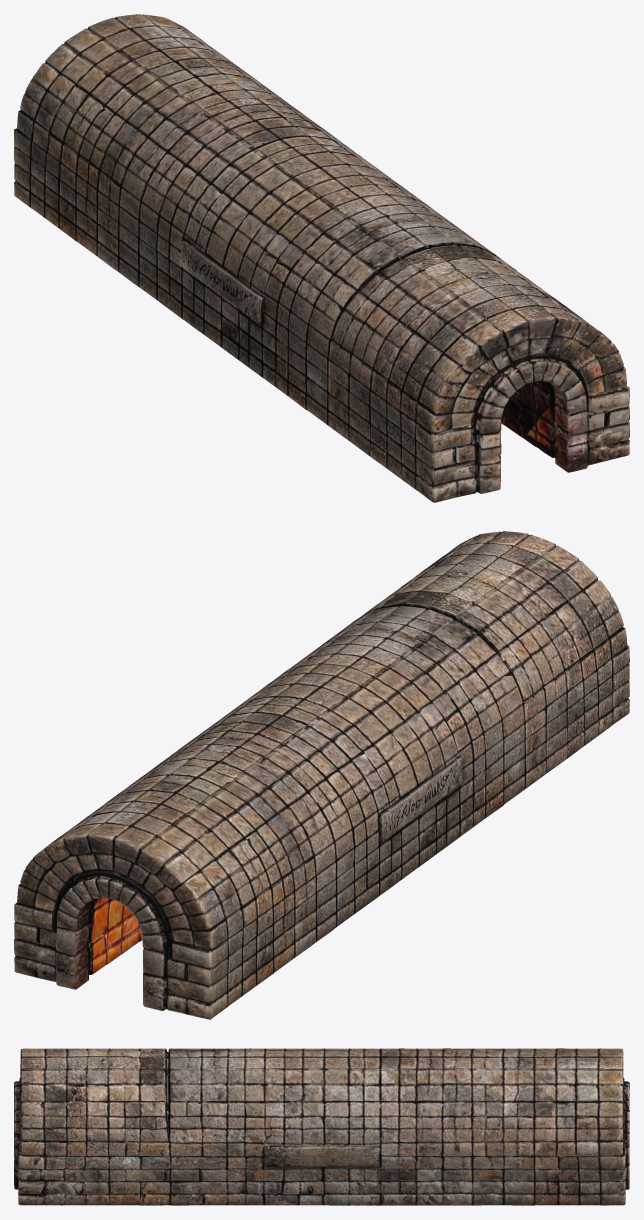
File: kiln.glb
3 views of the same model, one above another, from view 1: azimuth 30°, elevation 25°; view 2: azimuth 150°, elevation 25°; view 3: azimuth 270°, elevation 25° (orthographic). The views are drawn at different scales.
Parts seen in each view (by area): view 1: kiln; view 2: kiln; view 3: kiln.
Boxes of the visible parts, x1,y1,x2,y2 form: kiln: (14, 14, 629, 502); kiln: (14, 531, 629, 1019); kiln: (14, 1048, 629, 1205).
Bounding box in the file's own units: 0.2751 × 0.2049 × 1.
1 material, 1 textured.
